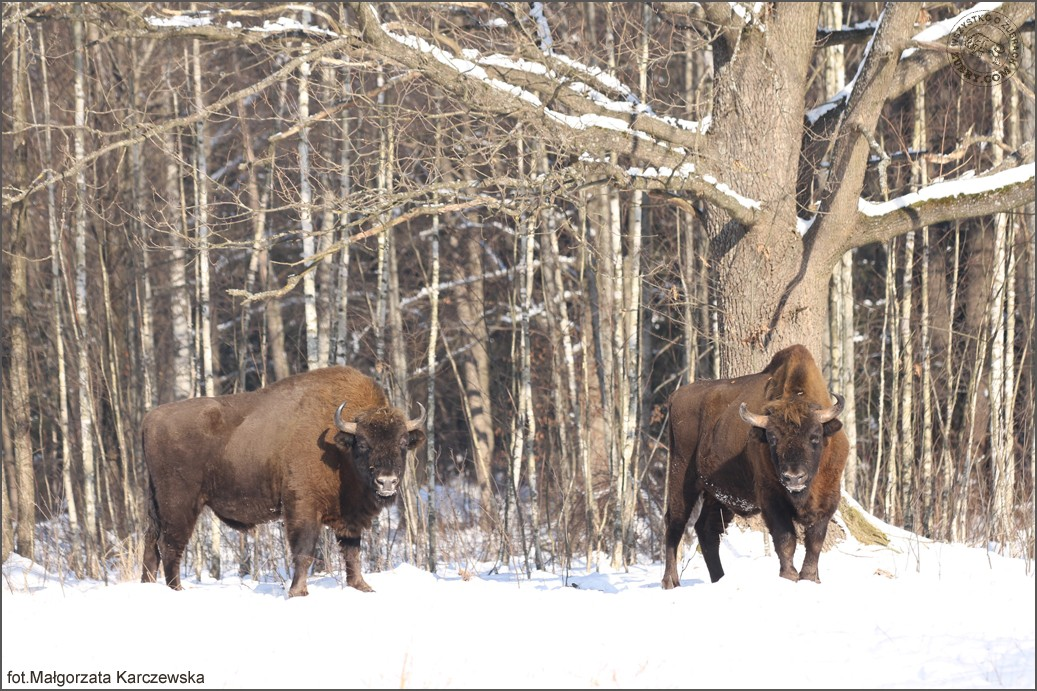zubr: (106, 333, 470, 607), (645, 303, 878, 609)
